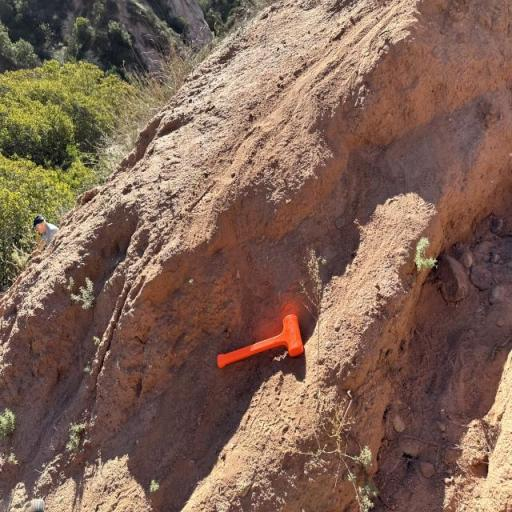mallet: (217, 314, 303, 368)
